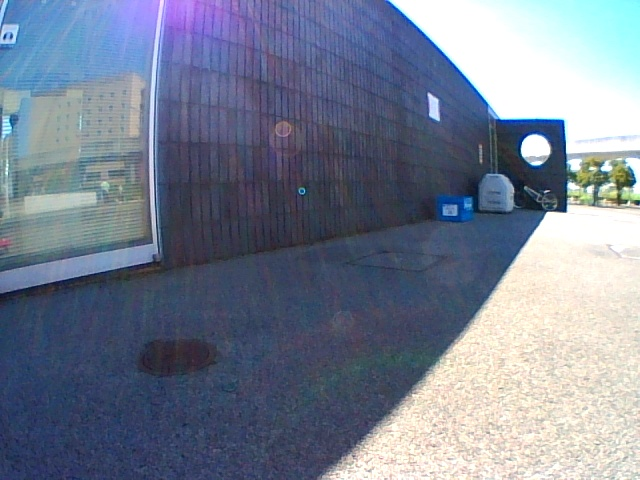blue_box: (438, 196, 472, 221)
tag: (443, 205, 456, 216)
